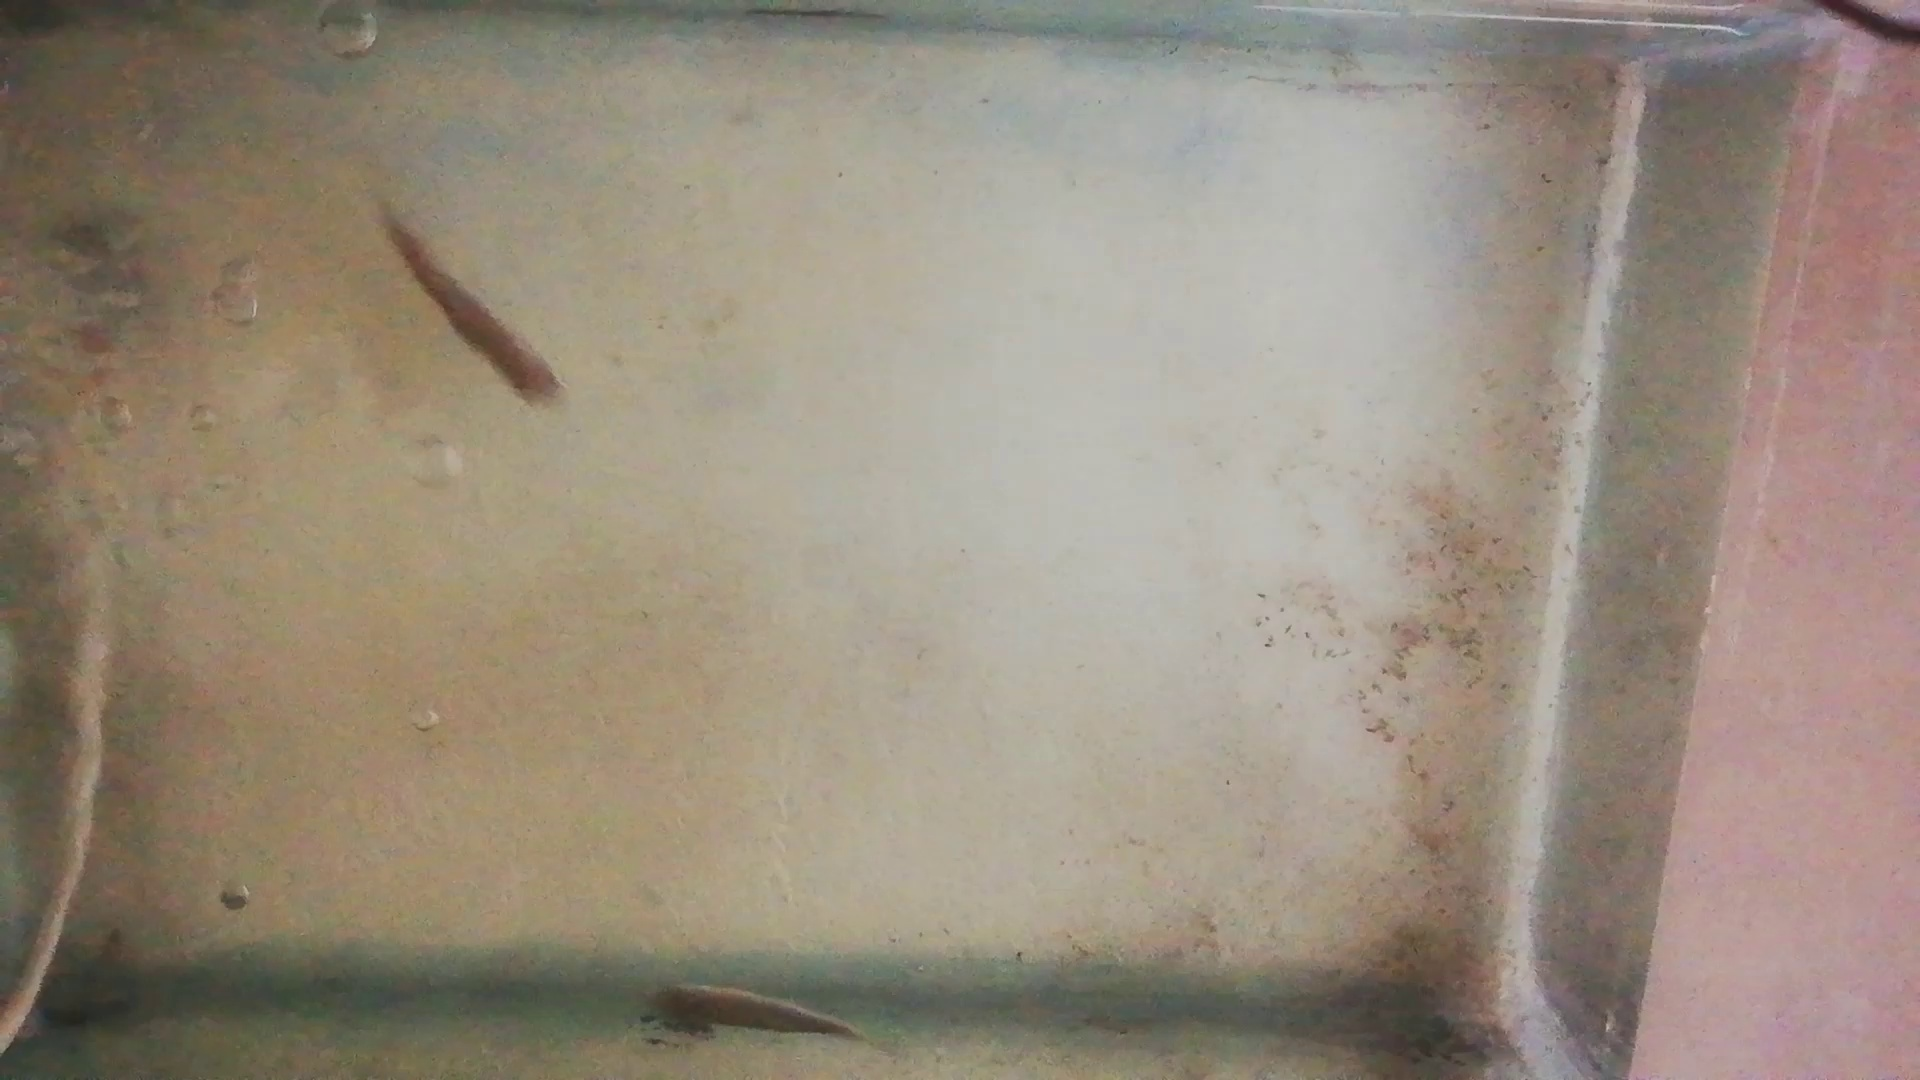fish: (378, 210, 567, 411), (651, 986, 852, 1033)
